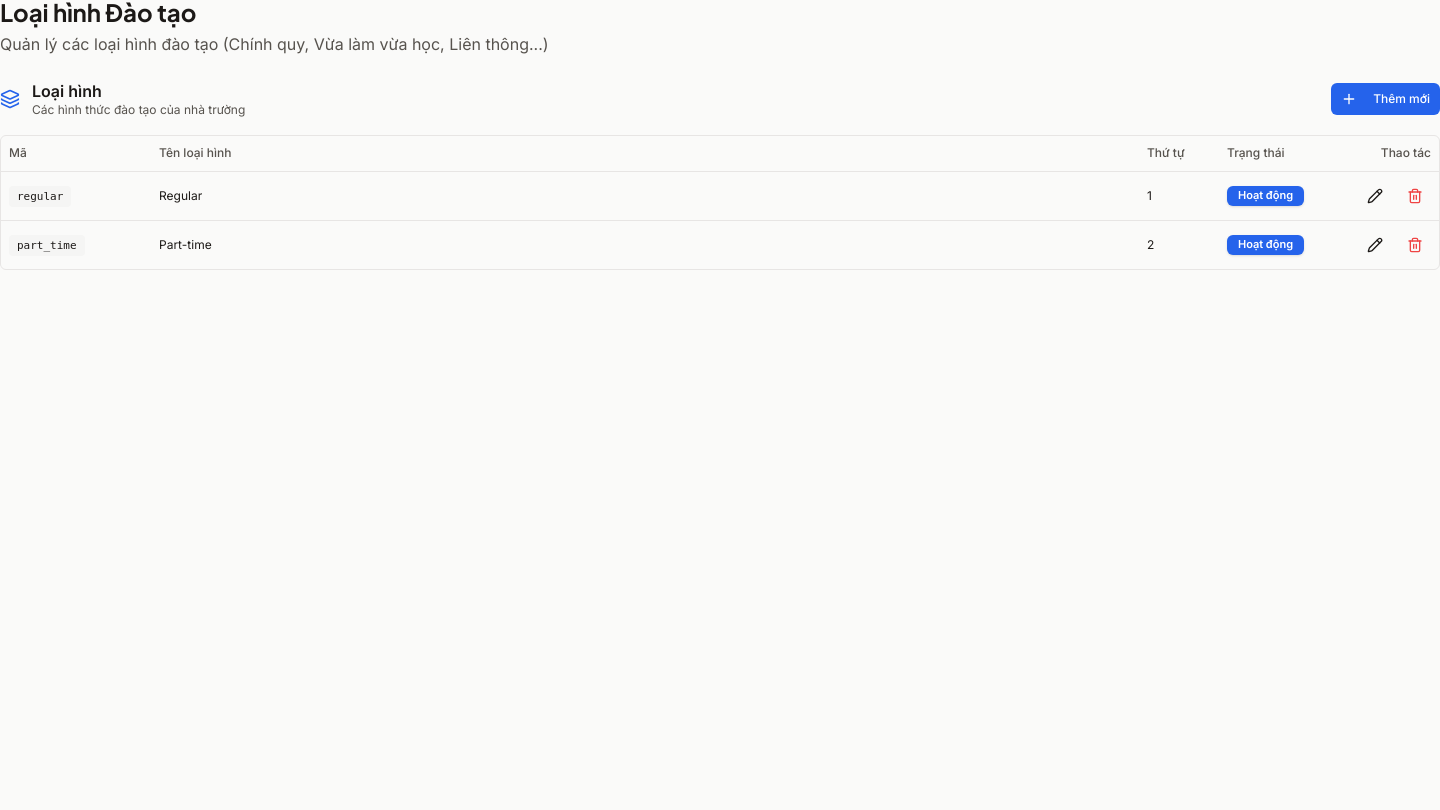
Scenario: OfferingTypePanel › should open edit dialog and populate data correctly
Click the 1st button named "Chỉnh sửa" at (1375, 196), box x1=1359 y1=180 x2=1391 y2=212
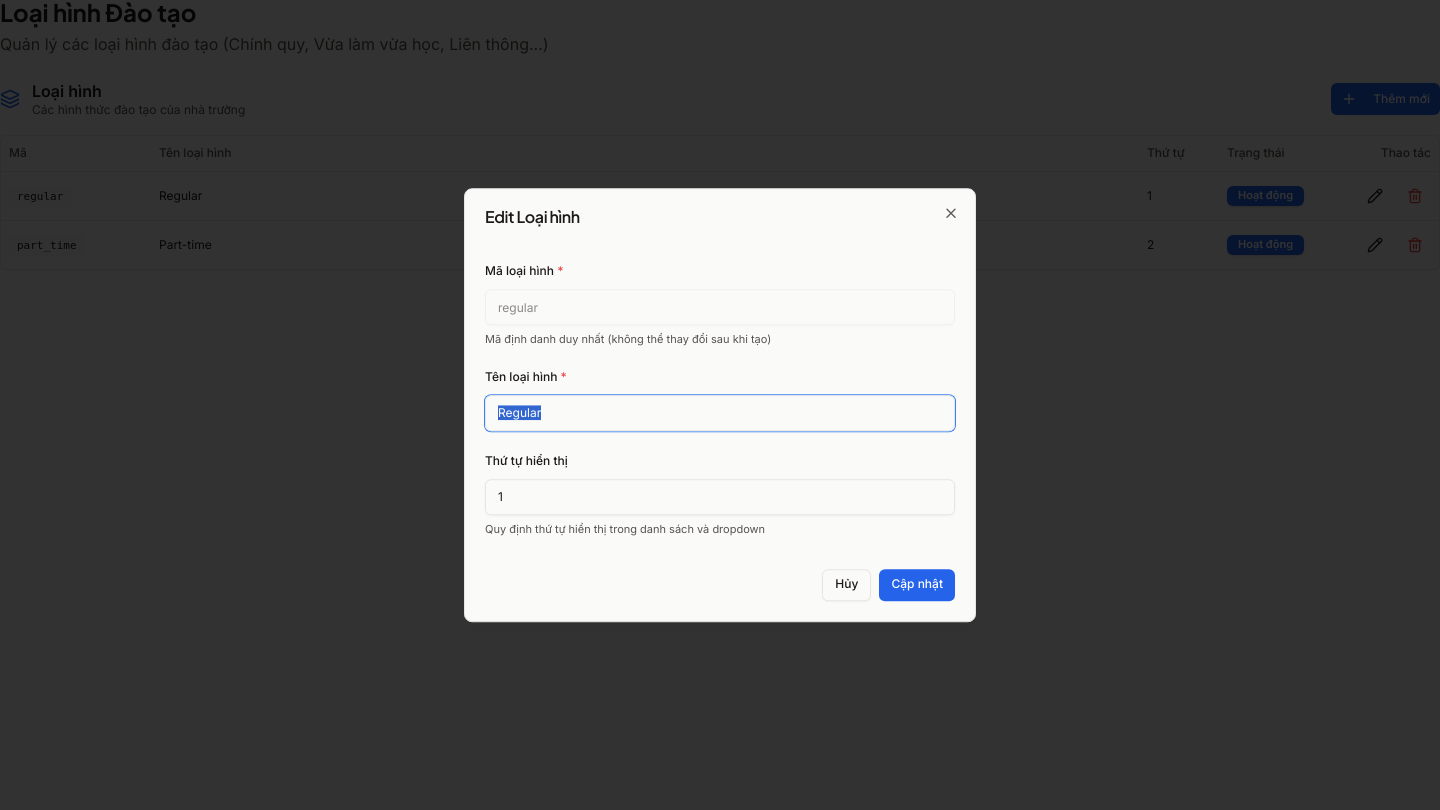
Expected: the dialog is shown, x1=464 y1=188 x2=976 y2=622
Expected: the heading "Edit Loại hình" is shown, x1=485 y1=206 x2=580 y2=227
Expected: the field labelled "Mã loại hình *" holds "regular", x1=485 y1=289 x2=955 y2=325
